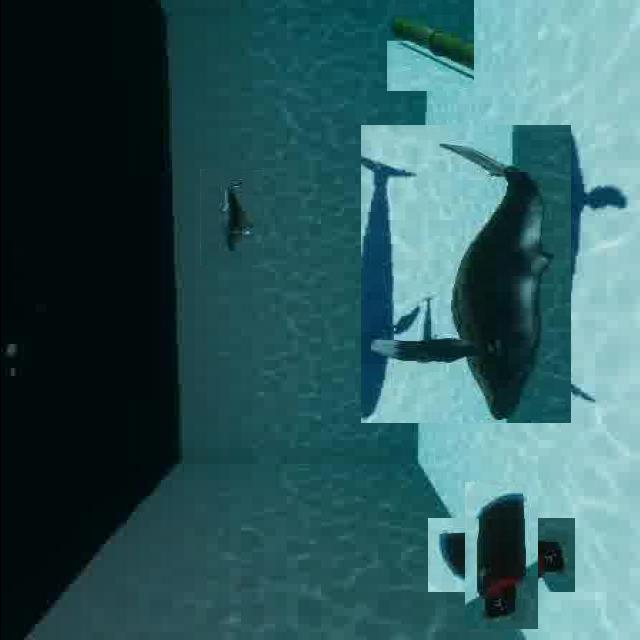Cylinder: (446, 500, 556, 611)
Pipe: (383, 0, 474, 89)
Whale: (359, 124, 570, 423), (199, 169, 261, 265)
